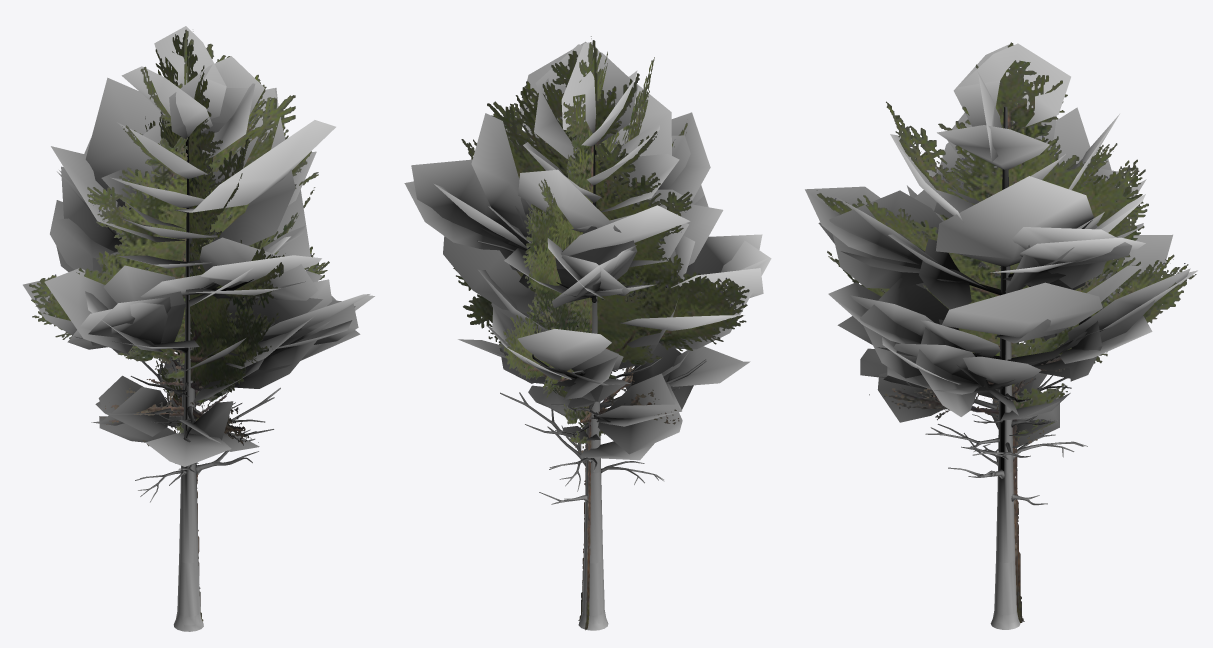
The model's file is Pine_02.fbx.
3 renders of one model, left to right at view 1: azimuth 30°, elevation 25°; view 2: azimuth 150°, elevation 25°; view 3: azimuth 270°, elevation 25°, orthographic. The views are drawn at different scales.
Parts seen in each view (by area): view 1: Pine_02_LOD0, Billboard_Pine_02; view 2: Pine_02_LOD0, Billboard_Pine_02; view 3: Pine_02_LOD0, Billboard_Pine_02.
Boxes of the visible parts, bbox=[...] form: Pine_02_LOD0: bbox=[23, 26, 374, 631]; Billboard_Pine_02: bbox=[29, 29, 329, 621]; Pine_02_LOD0: bbox=[404, 41, 771, 630]; Billboard_Pine_02: bbox=[453, 36, 749, 630]; Pine_02_LOD0: bbox=[805, 43, 1197, 629]; Billboard_Pine_02: bbox=[816, 42, 1196, 622].
Size of what is drawn, in the model's own units: 330 by 565 by 349.
